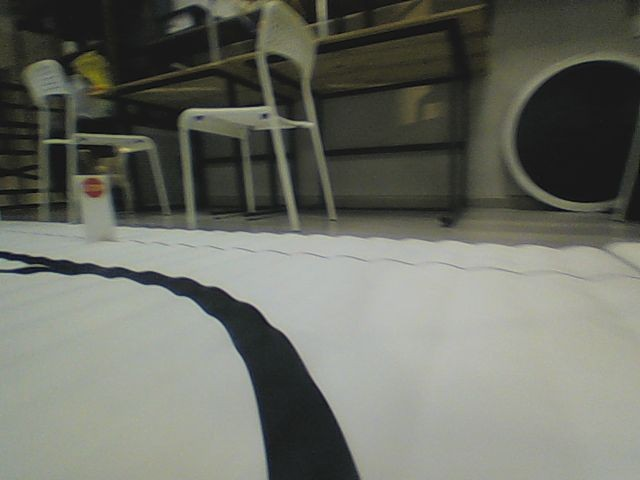Stop: (82, 177, 106, 199)
